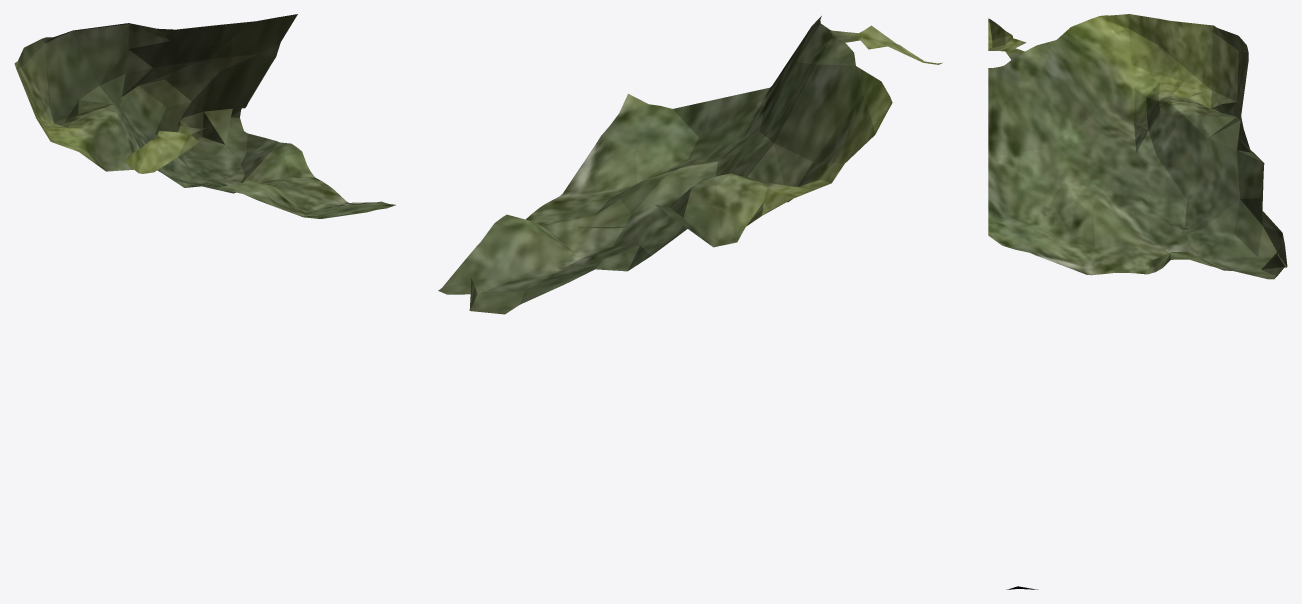
The picture shows the model from 3 angles, left to right: view 1: azimuth 30°, elevation 25°; view 2: azimuth 150°, elevation 25°; view 3: azimuth 270°, elevation 25°; orthographic projection. The views are drawn at different scales.
Bounding box in the file's own units: 1.77 × 2.95 × 1.78.
1 material, 1 textured.
